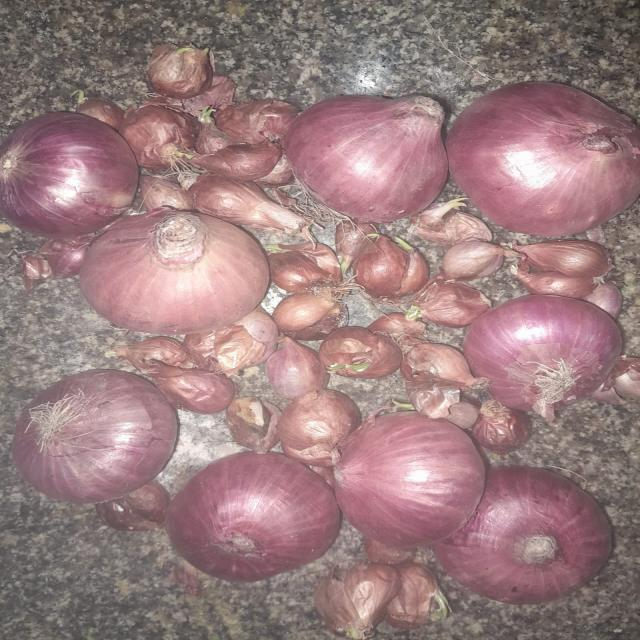sprouting: (432, 198, 474, 222), (404, 301, 429, 321)
